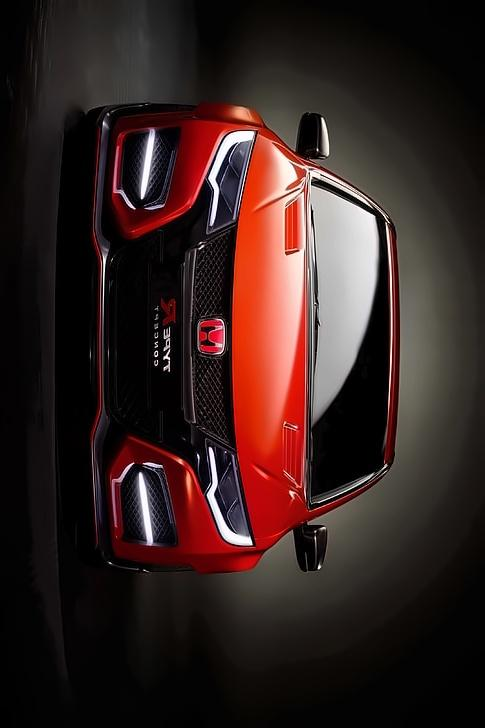Car hood: (230, 121, 316, 567)
Front bumper: (80, 103, 234, 579)
Headlight - -L-: (201, 436, 257, 550)
Headlight - -R-: (204, 128, 257, 244)
Side mirror - -L-: (293, 519, 329, 574)
Side mirror - -R-: (290, 108, 336, 169)
